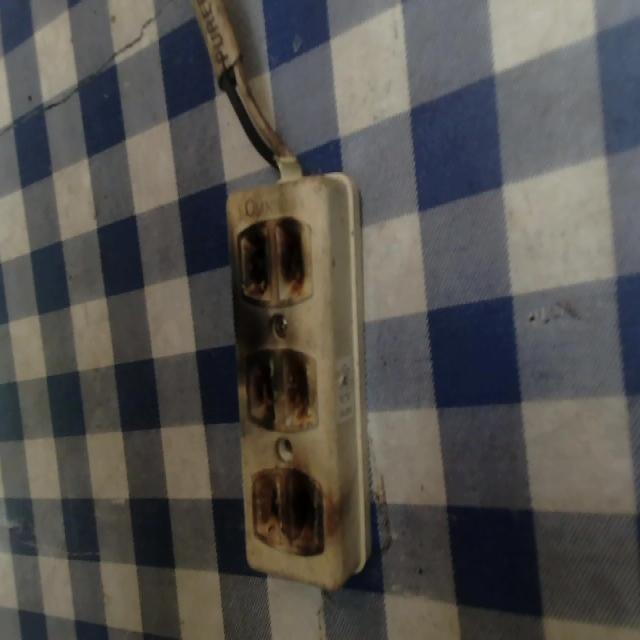-: (247, 463, 326, 557), (234, 213, 313, 304), (244, 343, 321, 436)
